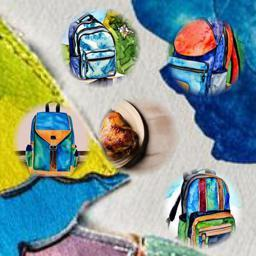something that can be eaten: (94, 110, 141, 167)
